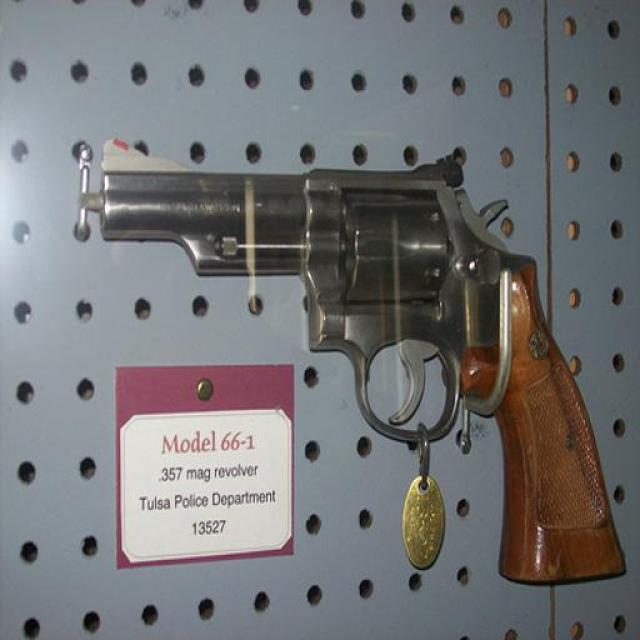pistol: (100, 146, 627, 582)
